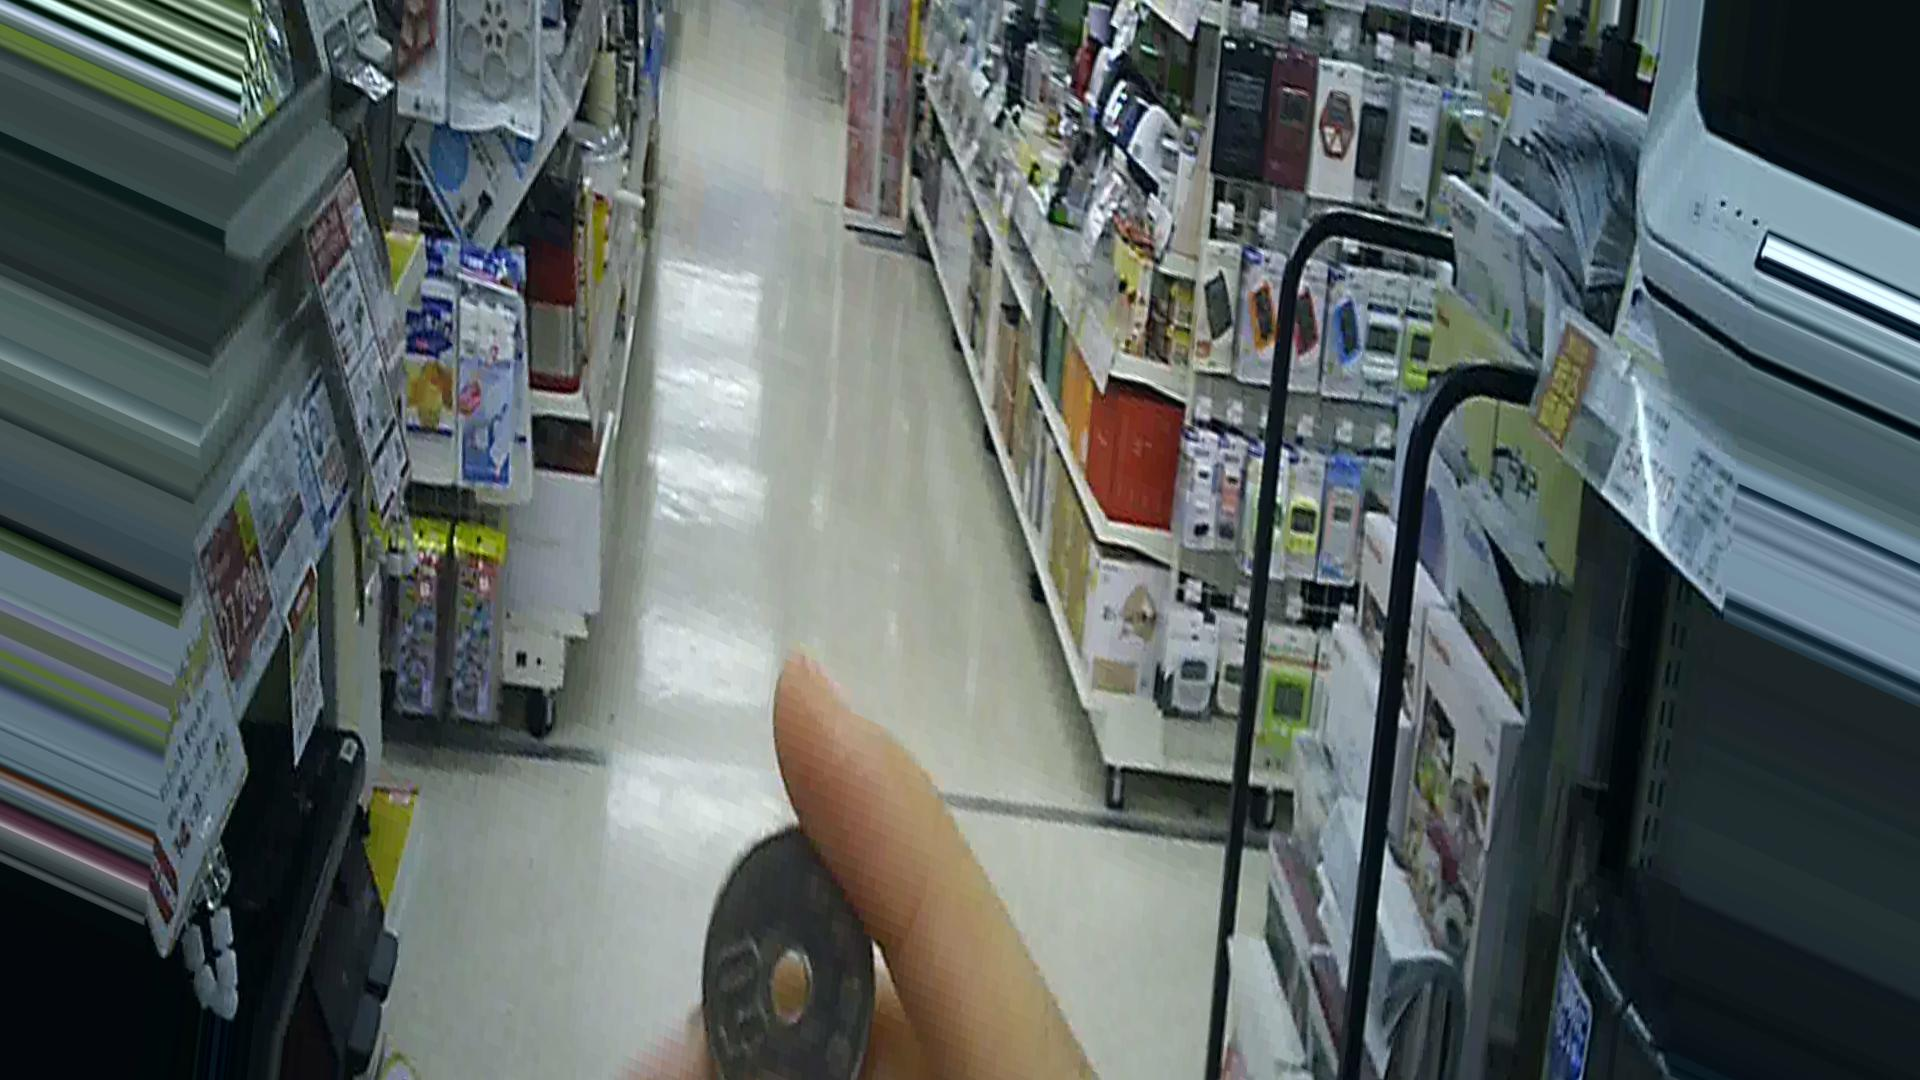50 Yen: (687, 833, 882, 1079)
